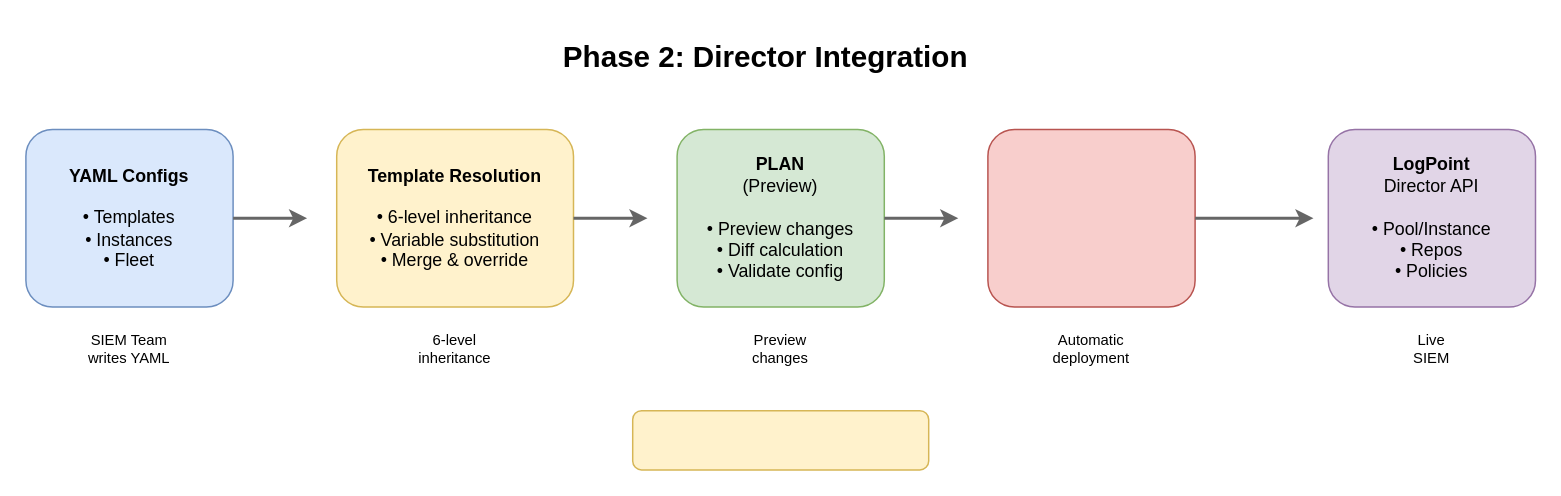
Some shapes in this 1561 by 496 pixel diagram are drawn without their labels. Each missing label, with the box of its shape:
APPLY (Deploy) • Deploy to Director • API calls • Async monitoring: (986, 128, 1195, 307)
🚧 UPCOMING: (631, 409, 929, 470)
